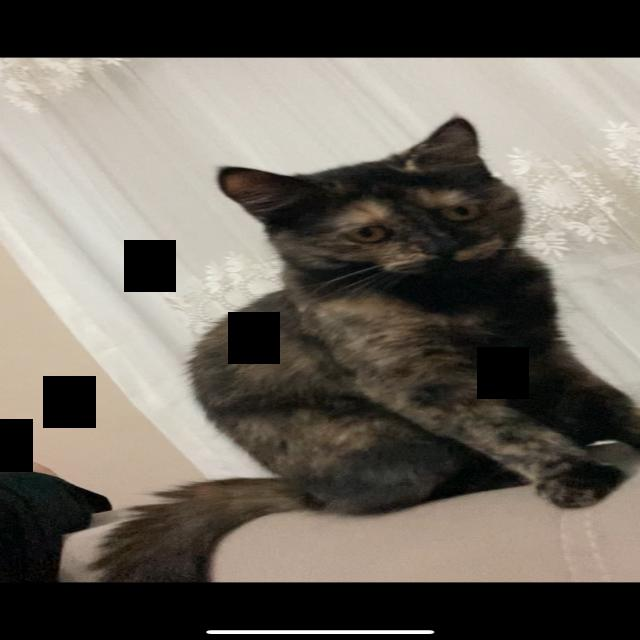authorized: (85, 116, 638, 582)
